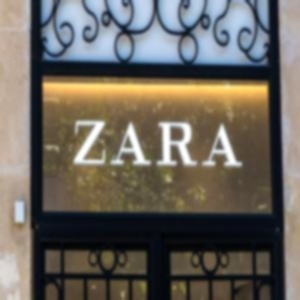zara: (229, 51, 293, 153)
